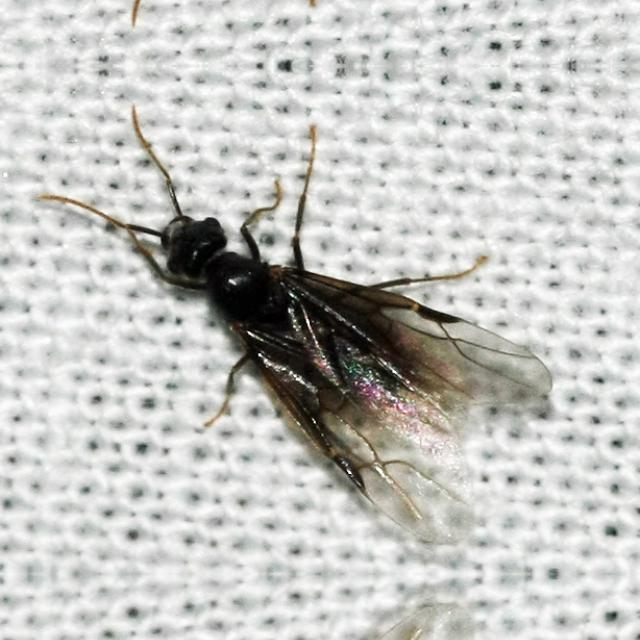Lasius: (79, 120, 567, 542)
